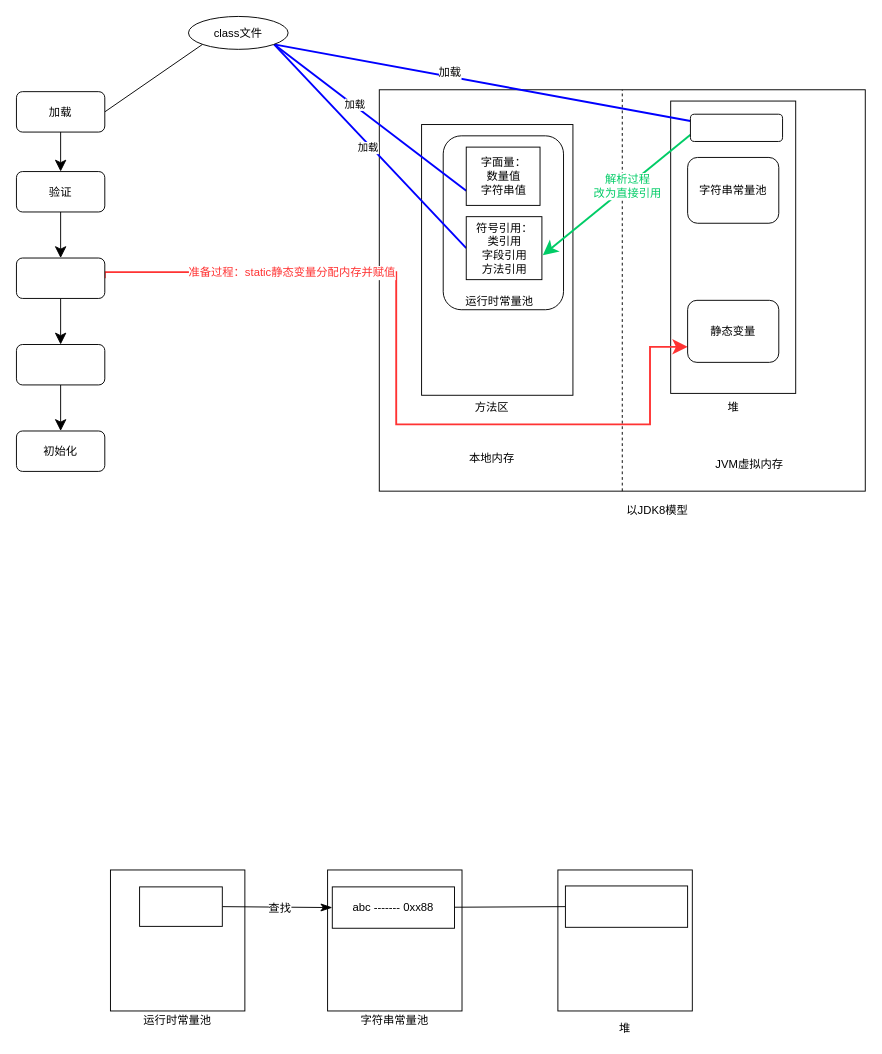
The diagram is 882 pixels wide and 1054 high, and some of its shapes have lost their labels. The shapes that lost their labels are listed below. From the top down, each one's centre as x and y in pixels, then its label:
[736,127]: class对象
[60,277]: 准备
[60,364]: 解析
[180,906]: abc
[626,906]: String("abc")对象
